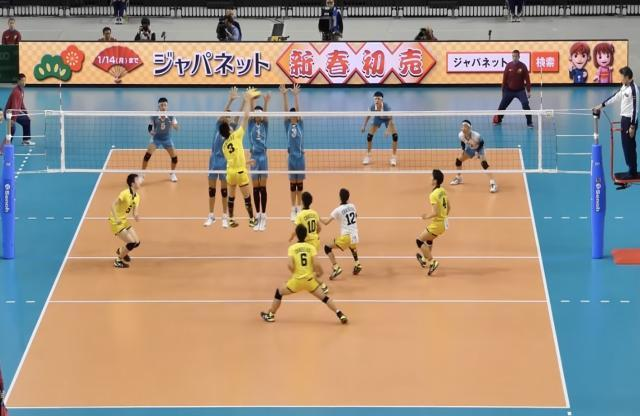spike: (216, 85, 264, 233)
